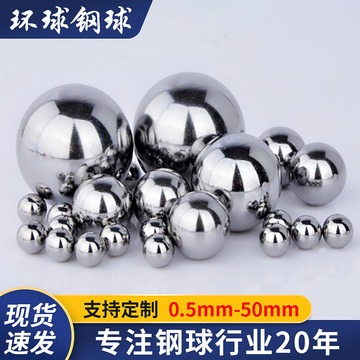ironball: (15, 82, 133, 205), (132, 71, 245, 178), (191, 132, 282, 232), (167, 189, 230, 260), (288, 141, 346, 206), (71, 173, 132, 229), (132, 167, 190, 224), (257, 125, 305, 188), (141, 232, 174, 267), (321, 213, 353, 248), (74, 231, 105, 267), (258, 223, 290, 257), (290, 214, 321, 249), (44, 227, 74, 262), (99, 223, 130, 256), (16, 220, 46, 254), (16, 192, 46, 223), (139, 215, 167, 244), (46, 214, 77, 237), (262, 208, 292, 231), (46, 201, 72, 223), (122, 162, 140, 191)
